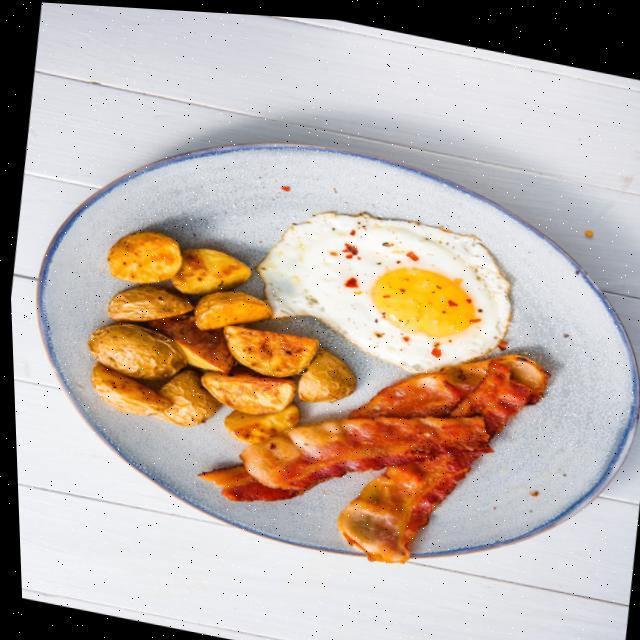Bacon: (237, 410, 489, 487), (334, 446, 475, 558), (447, 352, 528, 430), (346, 366, 463, 414)
Egg: (254, 207, 509, 368)
